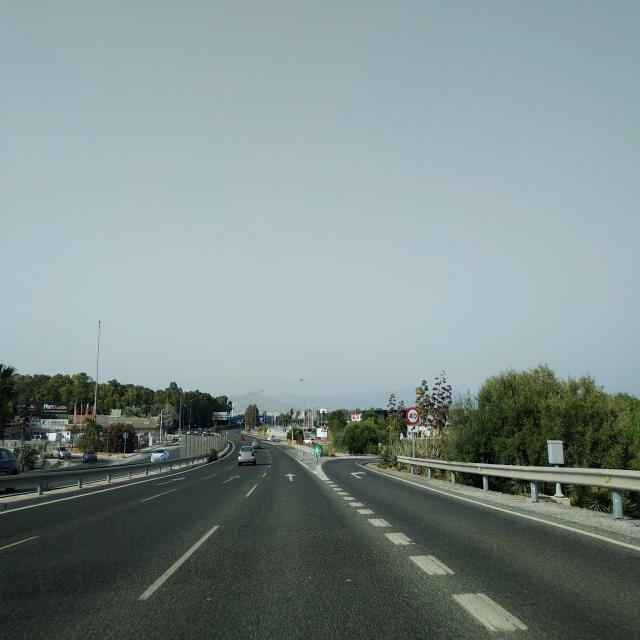car: (0, 447, 20, 477), (237, 443, 256, 467), (54, 445, 72, 460), (82, 448, 98, 463)
